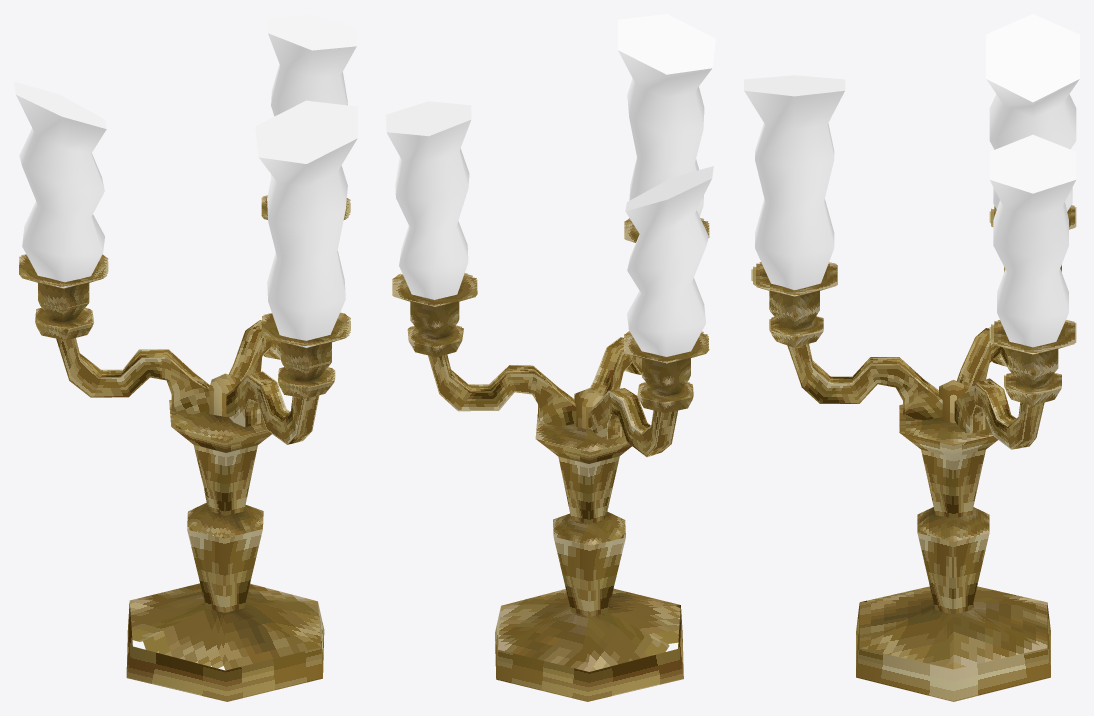
File: rou36.glb
3 views of the same model, side by side, from view 1: azimuth 30°, elevation 25°; view 2: azimuth 150°, elevation 25°; view 3: azimuth 270°, elevation 25° (orthographic). The views are drawn at different scales.
Visible parts, largest first — view 1: rou36; view 2: rou36; view 3: rou36.
Boxes of the visible parts, <box> form: rou36: <box>14,14,357,701</box>; rou36: <box>386,14,715,701</box>; rou36: <box>744,14,1079,701</box>.
Size of the model in its own units: 107 by 178 by 93.
Materials: 3 (3 with a texture image).
